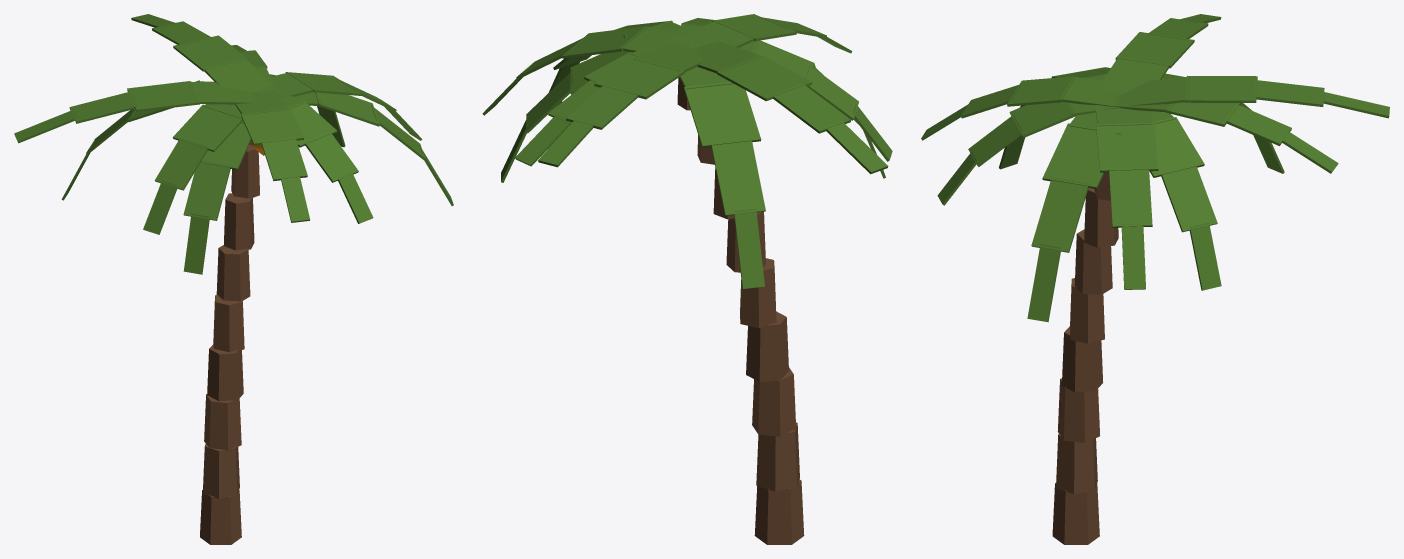
Rendered from palm_a.glb.
3 renders of one model, left to right at view 1: azimuth 30°, elevation 25°; view 2: azimuth 150°, elevation 25°; view 3: azimuth 270°, elevation 25°, orthographic. The views are drawn at different scales.
Parts seen in each view (by area): view 1: Palm; view 2: Palm; view 3: Palm.
Boxes of the visible parts, x1,y1,x2,y2 form: Palm: (14,14,453,544); Palm: (482,14,892,544); Palm: (921,14,1389,544).
Bounding box in the file's own units: 7.3 × 7.98 × 7.09.
